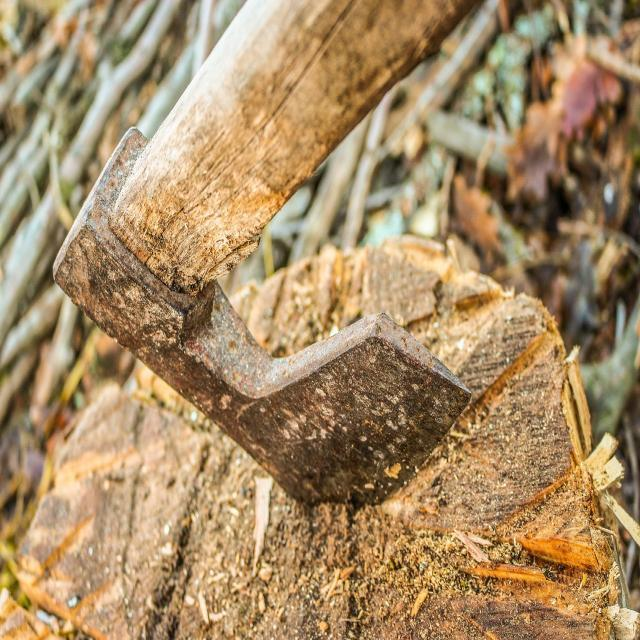Axe: (55, 0, 472, 504)
